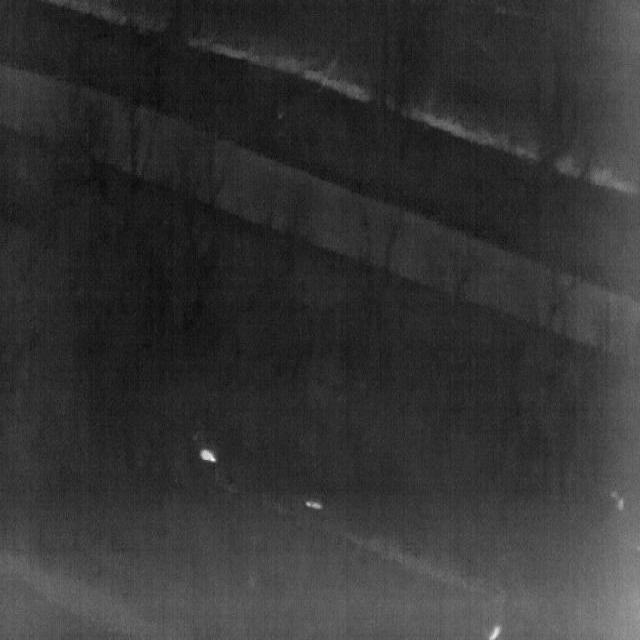deer: (611, 491, 625, 510), (200, 449, 217, 462), (488, 624, 501, 640), (305, 500, 323, 510)
